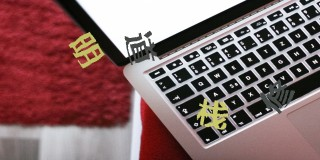修: (260, 79, 295, 114)
明: (68, 30, 105, 69)
栈: (196, 98, 229, 131)
道: (124, 30, 159, 65)
